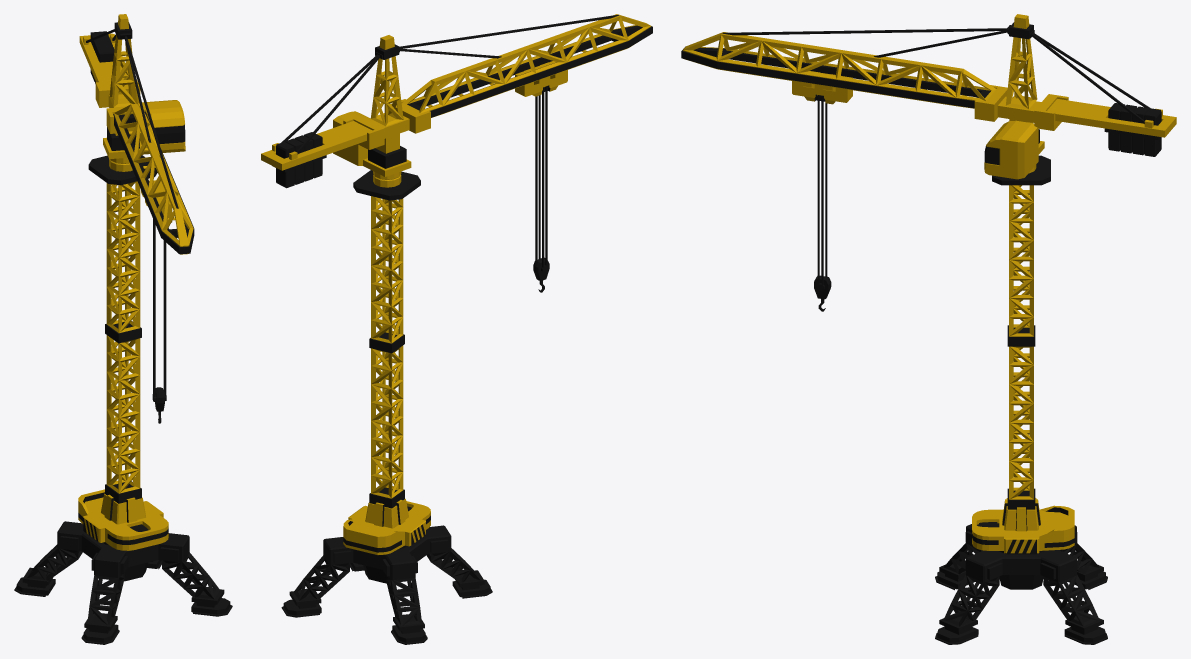
The model's file is crane.obj.
The picture shows the model from 3 angles, left to right: view 1: azimuth 30°, elevation 25°; view 2: azimuth 150°, elevation 25°; view 3: azimuth 270°, elevation 25°; orthographic projection. The views are drawn at different scales.
Visible parts, largest first — view 1: main_Cube, legs_Cube.023, beam_Cube.010, base_stand_Cube.006, base_hub_Cube.005, feet_Cube.022, booth_Cube.007, beam_bulk_Cube.009, tower_Cube.008, weight_holder_Cube.017, cables_Cube.016, base_block_Cube.004 (+6 smaller); view 2: main_Cube, beam_Cube.010, beam_bulk_Cube.009, legs_Cube.023, base_stand_Cube.006, base_hub_Cube.005, weight_holder_Cube.017, booth_Cube.007, feet_Cube.022, cables_Cube.016, tower_Cube.008, weights_Cube.020 (+5 smaller); view 3: beam_Cube.010, main_Cube, beam_bulk_Cube.009, legs_Cube.023, base_stand_Cube.006, base_hub_Cube.005, booth_Cube.007, weight_holder_Cube.017, feet_Cube.022, weights_Cube.020, tower_Cube.008, cables_Cube.016 (+5 smaller).
Boxes of the visible parts, x1=… form: main_Cube: x1=106, y1=181, x2=140, y2=493; legs_Cube.023: x1=27, y1=544, x2=219, y2=624; beam_Cube.010: x1=114, y1=104, x2=193, y2=254; base_stand_Cube.006: x1=57, y1=521, x2=189, y2=581; base_hub_Cube.005: x1=78, y1=489, x2=168, y2=550; feet_Cube.022: x1=14, y1=560, x2=232, y2=644; booth_Cube.007: x1=103, y1=94, x2=185, y2=159; beam_bulk_Cube.009: x1=106, y1=105, x2=194, y2=254; tower_Cube.008: x1=109, y1=35, x2=137, y2=107; weight_holder_Cube.017: x1=79, y1=33, x2=140, y2=107; cables_Cube.016: x1=153, y1=219, x2=166, y2=396; base_block_Cube.004: x1=101, y1=493, x2=145, y2=524; main_Cube: x1=371, y1=196, x2=403, y2=498; beam_Cube.010: x1=402, y1=14, x2=651, y2=117; beam_bulk_Cube.009: x1=391, y1=25, x2=652, y2=133; legs_Cube.023: x1=294, y1=548, x2=480, y2=625; base_stand_Cube.006: x1=323, y1=525, x2=451, y2=583; base_hub_Cube.005: x1=343, y1=501, x2=430, y2=554; weight_holder_Cube.017: x1=261, y1=115, x2=384, y2=170; booth_Cube.007: x1=333, y1=111, x2=411, y2=176; feet_Cube.022: x1=281, y1=562, x2=492, y2=644; cables_Cube.016: x1=535, y1=86, x2=547, y2=267; tower_Cube.008: x1=370, y1=56, x2=403, y2=126; weights_Cube.020: x1=276, y1=132, x2=322, y2=188; beam_Cube.010: x1=682, y1=32, x2=996, y2=108; main_Cube: x1=1009, y1=185, x2=1033, y2=499; beam_bulk_Cube.009: x1=681, y1=46, x2=1007, y2=121; legs_Cube.023: x1=943, y1=543, x2=1099, y2=626; base_stand_Cube.006: x1=965, y1=524, x2=1077, y2=589; base_hub_Cube.005: x1=972, y1=505, x2=1074, y2=553; booth_Cube.007: x1=984, y1=96, x2=1044, y2=179; weight_holder_Cube.017: x1=1034, y1=94, x2=1176, y2=137; feet_Cube.022: x1=935, y1=560, x2=1107, y2=644; weights_Cube.020: x1=1108, y1=103, x2=1161, y2=156; tower_Cube.008: x1=1005, y1=37, x2=1037, y2=109; cables_Cube.016: x1=817, y1=95, x2=827, y2=285.
Bounding box in the file's own units: 20.28 × 61.7 × 46.78.
